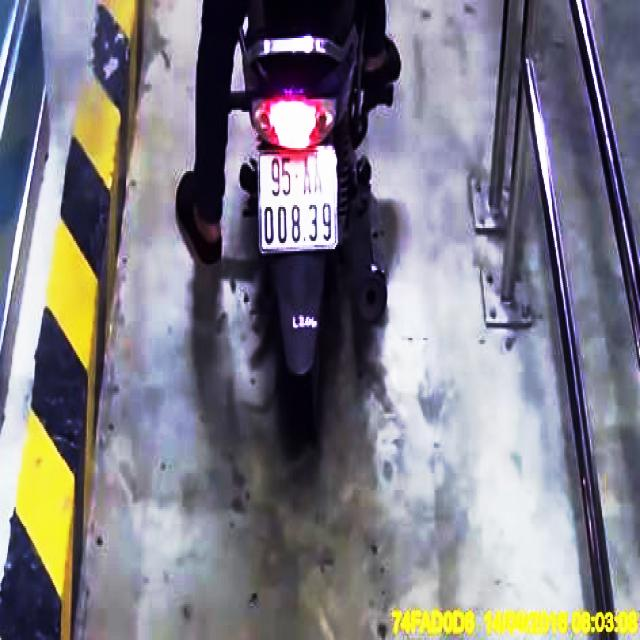license_plate: (262, 150, 337, 249)
